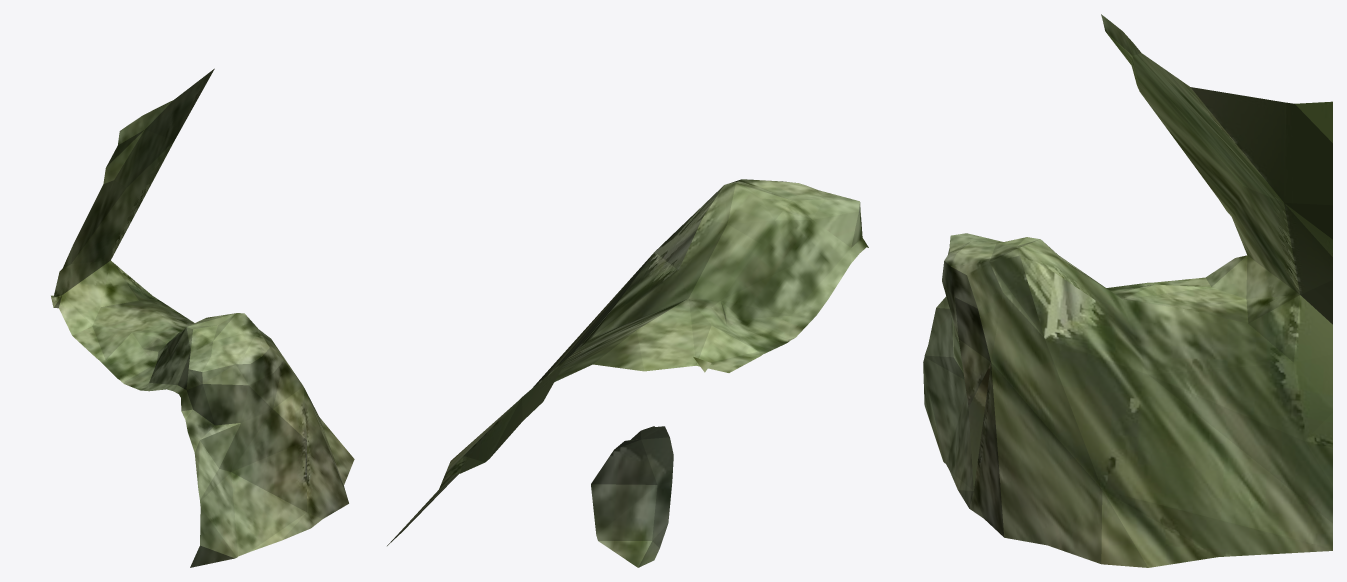
3 views of the same model, side by side, from view 1: azimuth 30°, elevation 25°; view 2: azimuth 150°, elevation 25°; view 3: azimuth 270°, elevation 25° (orthographic). The views are drawn at different scales.
Bounding box in the file's own units: 1.94 × 2.95 × 2.58.
3 materials, 3 textured.
